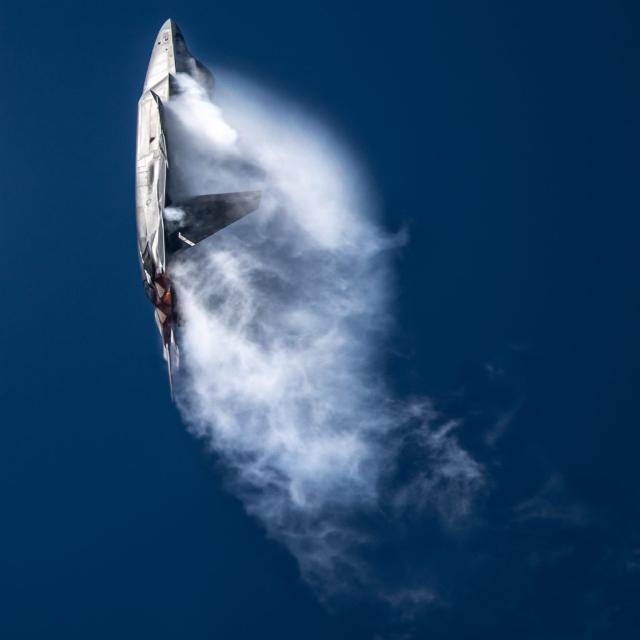MIL_Plane: (135, 18, 261, 404)
